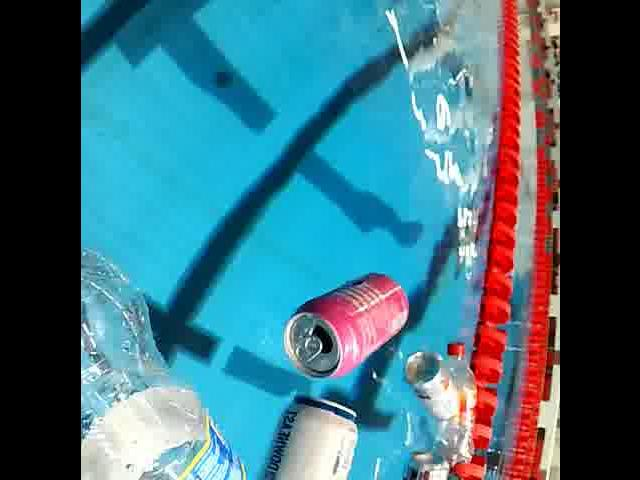Bottle: (80, 242, 253, 480), (431, 338, 479, 470)
Can: (277, 261, 411, 387), (246, 389, 365, 480), (405, 348, 459, 422), (387, 444, 451, 480), (437, 467, 467, 480)
